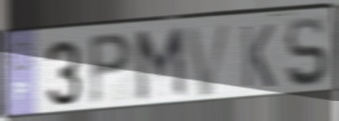3: (43, 37, 82, 108)
K: (240, 22, 277, 90)
M: (133, 24, 188, 106)
P: (87, 31, 136, 109)
S: (284, 15, 331, 90)
V: (183, 20, 235, 99)
